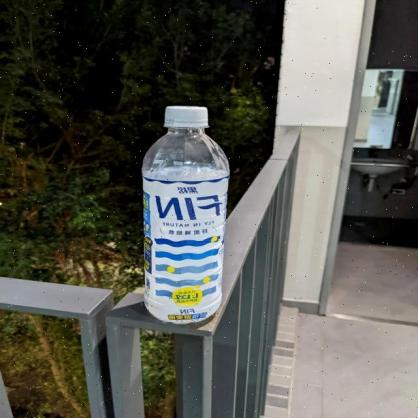bottle: (132, 96, 236, 330)
cap: (161, 100, 212, 132)
label: (143, 172, 229, 318)
